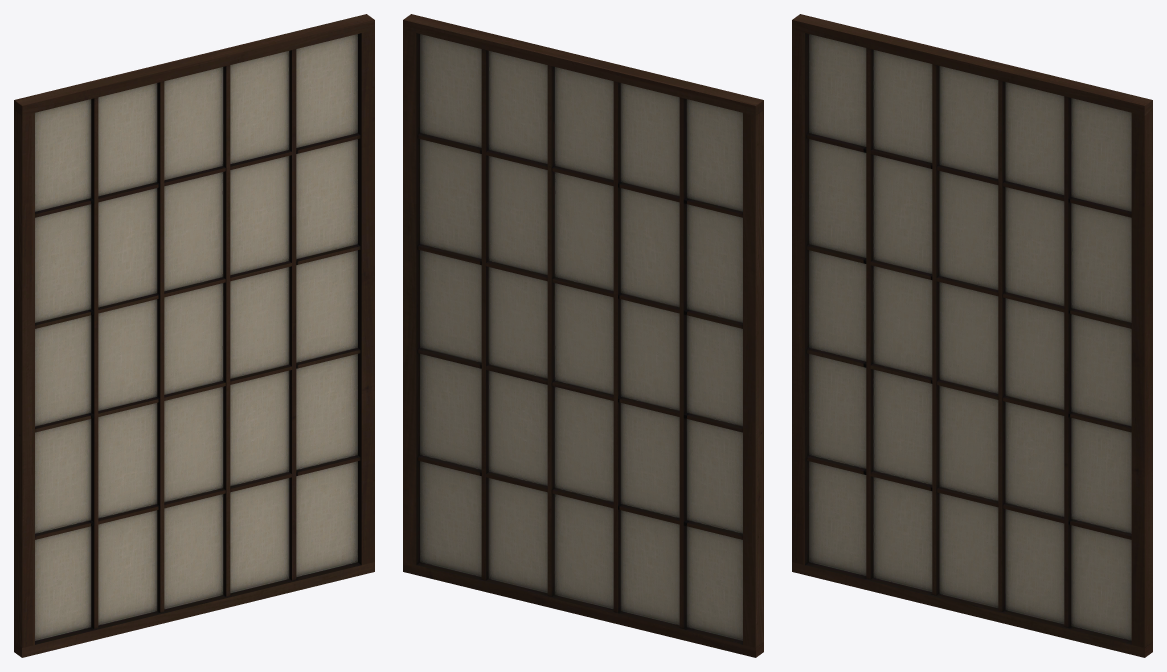
The model's file is ShojiWall1.c.fbx.
3 views of the same model, side by side, from view 1: azimuth 30°, elevation 25°; view 2: azimuth 150°, elevation 25°; view 3: azimuth 330°, elevation 25° (orthographic).
Parts seen in each view (by area): view 1: Group 0; view 2: Group 0; view 3: Group 0.
Part boxes in pixels (left/top/right/bottom): Group 0: left=14, top=14, right=374, bottom=657; Group 0: left=403, top=14, right=763, bottom=657; Group 0: left=792, top=14, right=1152, bottom=657.
Bounding box in the file's own units: 200 × 299 × 7.96.
Materials: 1 (1 with a texture image).
